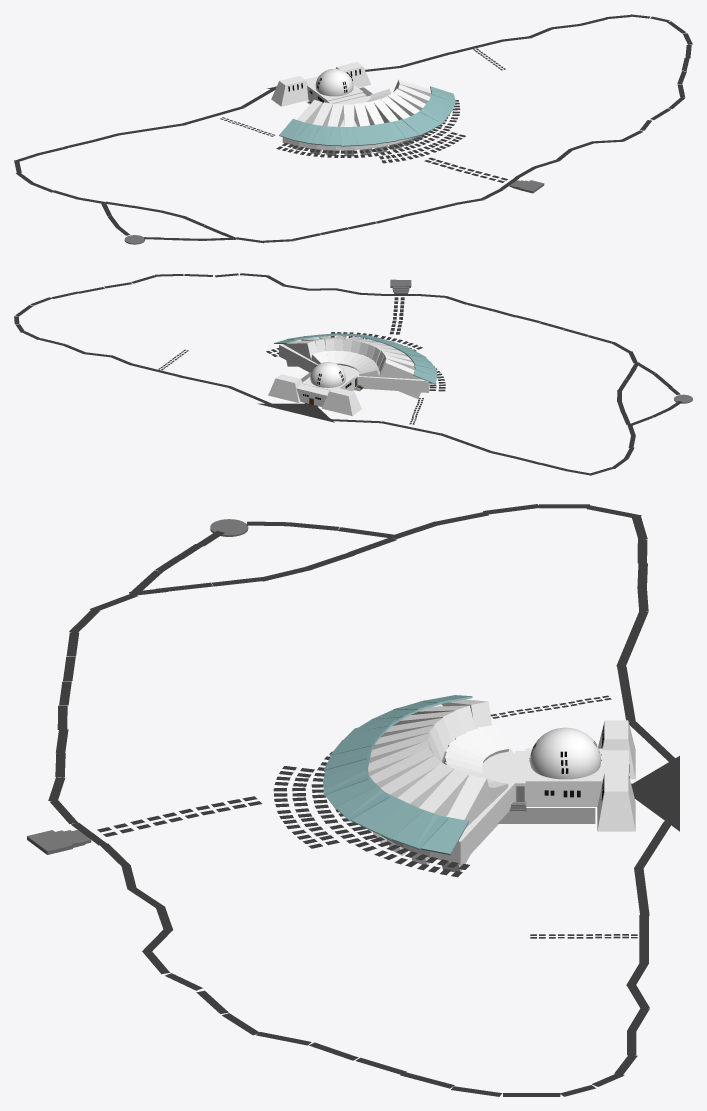
The model's file is asmundarsafn_nyasta_utgafa_bla_1.obj.
3 renders of one model, top to bottom at view 1: azimuth 30°, elevation 25°; view 2: azimuth 150°, elevation 25°; view 3: azimuth 270°, elevation 25°, orthographic. The views are drawn at different scales.
Visible parts, largest first — view 1: Cube.047, Cube.033, Sphere, h_hlid, syningarsalur, Plane.001, v_hlid, innanhus; view 2: Cube.033, syningarsalur, Cube.047, Plane.001, h_hlid, Sphere, v_hlid, adaldyr; view 3: Cube.033, Cube.047, Plane.001, syningarsalur, Sphere, innanhus, v_hlid, h_hlid.
Boxes of the visible parts, x1,y1,x2,y2 form: Cube.047: (279,86,456,146); Cube.033: (292,79,431,156); Sphere: (315,69,353,96); h_hlid: (271,76,308,106); syningarsalur: (282,96,412,150); Plane.001: (124,86,544,244); v_hlid: (335,62,371,87); innanhus: (307,83,363,102); Cube.033: (283,336,422,398); syningarsalur: (279,337,429,392); Cube.047: (274,333,437,384); Plane.001: (257,279,692,422); h_hlid: (322,387,361,415); Sphere: (310,362,345,387); v_hlid: (268,374,302,402); adaldyr: (296,384,329,406); Cube.033: (368,699,508,872); Cube.047: (323,695,472,855); Plane.001: (27,519,679,854); syningarsalur: (380,704,514,864); Sphere: (530,727,601,779); innanhus: (525,748,604,806); v_hlid: (597,772,635,831); h_hlid: (598,720,635,779).
Size of the model in its own units: 147 by 8.94 by 68.62.
